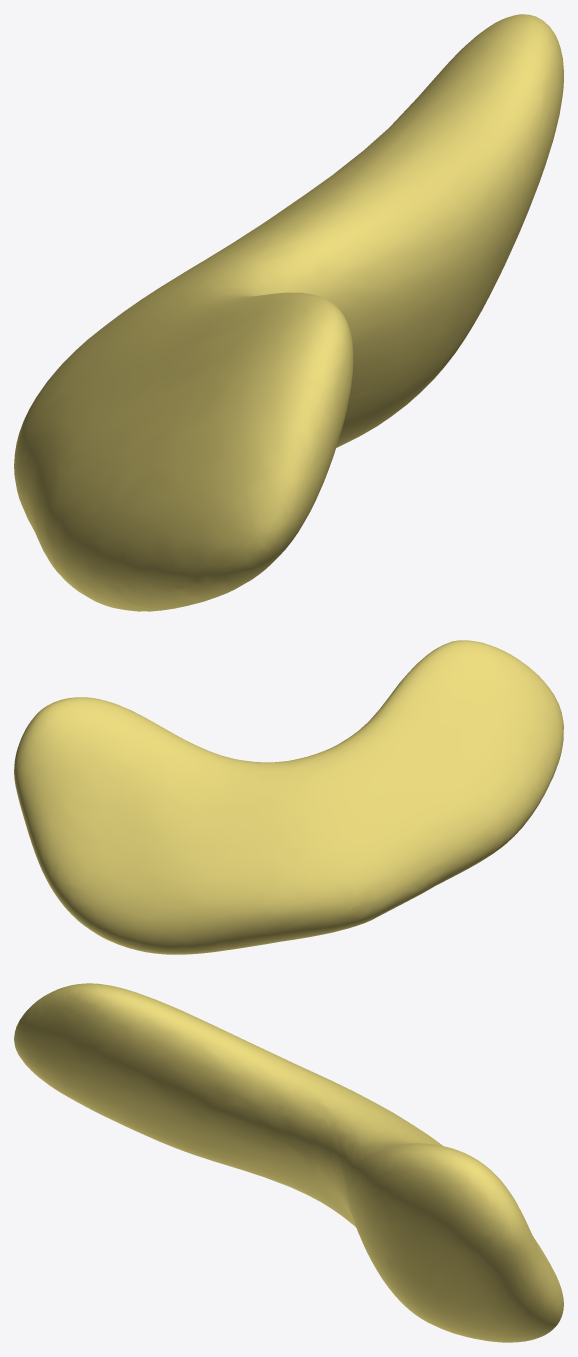
The model's file is gracile-lobule-r.glb.
3 views of the same model, one above another, from view 1: azimuth 30°, elevation 25°; view 2: azimuth 150°, elevation 25°; view 3: azimuth 270°, elevation 25° (orthographic). The views are drawn at different scales.
Parts seen in each view (by area): view 1: Gracile lobule.r; view 2: Gracile lobule.r; view 3: Gracile lobule.r.
Part boxes in pixels (x1=…): Gracile lobule.r: x1=14, y1=14, x2=563, y2=611; Gracile lobule.r: x1=14, y1=640, x2=563, y2=954; Gracile lobule.r: x1=14, y1=983, x2=563, y2=1342.
Size of the model in its own units: 0.0348 by 0.0194 by 0.0366.
